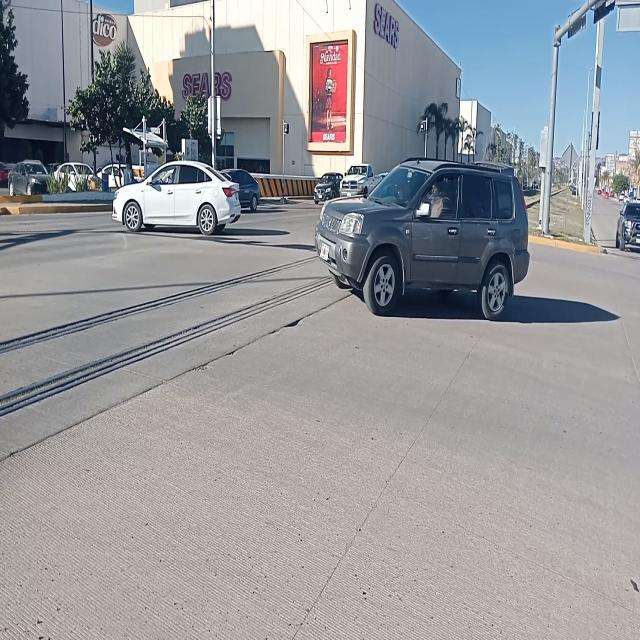Auto: (318, 158, 530, 318), (114, 160, 239, 237)
